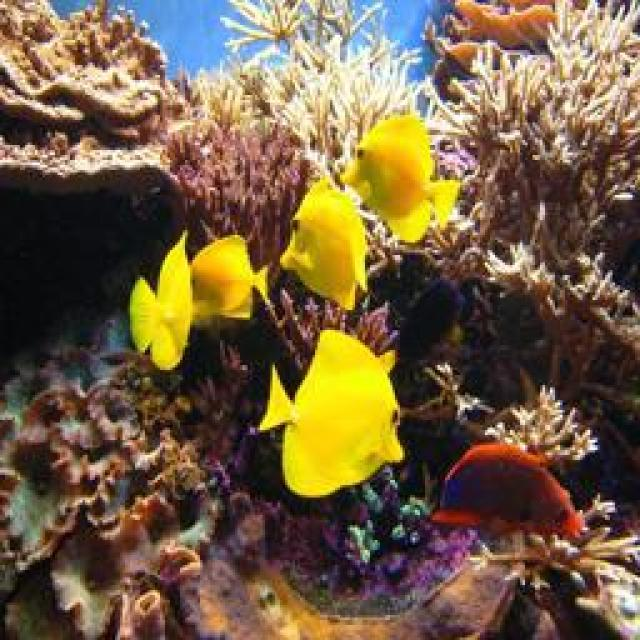fish: (256, 328, 405, 497), (259, 329, 406, 494), (342, 112, 464, 243), (432, 442, 592, 541), (277, 174, 372, 312)
reefs: (421, 0, 638, 410), (1, 0, 199, 232)
